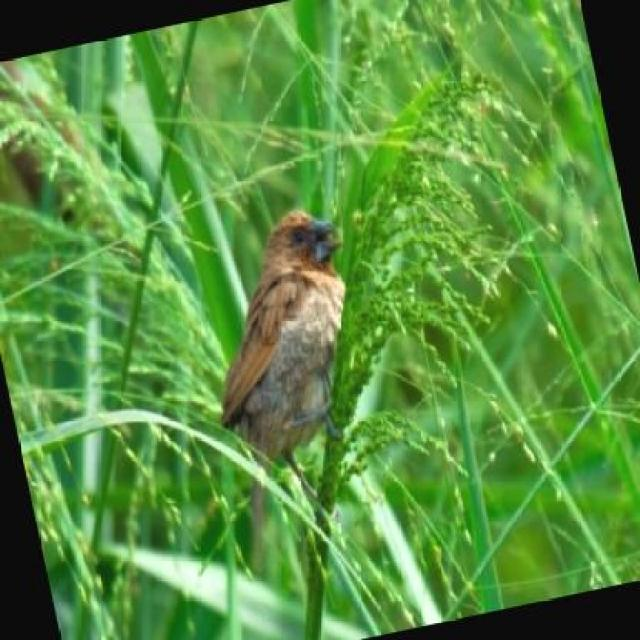Bird: (218, 205, 356, 499)
